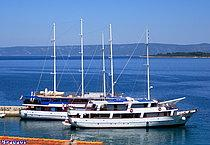Ship: (68, 97, 203, 134)
